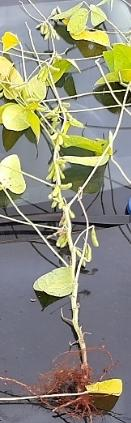soja: (44, 61, 64, 74), (90, 227, 102, 248), (66, 201, 78, 220), (26, 94, 42, 107), (33, 105, 47, 118), (58, 234, 68, 250), (42, 168, 55, 180), (42, 30, 53, 43), (53, 120, 62, 135), (59, 212, 66, 231), (45, 161, 56, 173), (49, 187, 60, 199), (54, 29, 63, 41), (52, 197, 60, 210), (58, 185, 75, 191), (56, 158, 67, 167), (52, 173, 61, 183), (58, 169, 66, 180), (60, 160, 67, 172), (39, 25, 45, 37), (42, 25, 49, 34)
